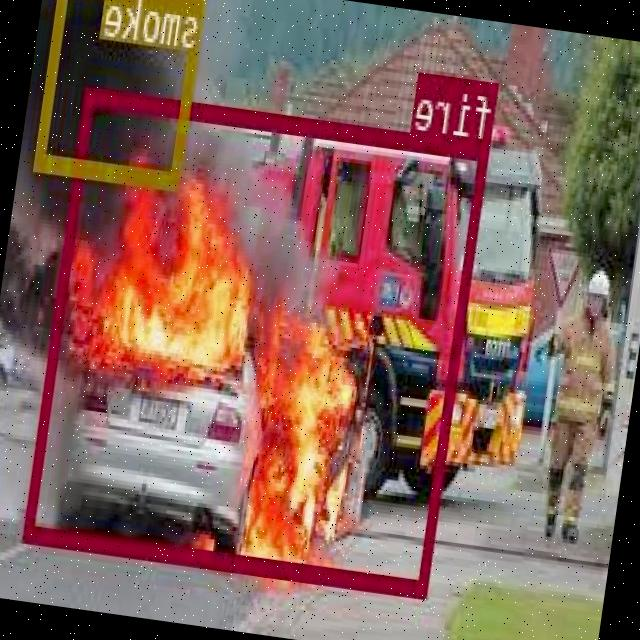fire: (26, 84, 492, 594)
smoke: (35, 0, 207, 187)
